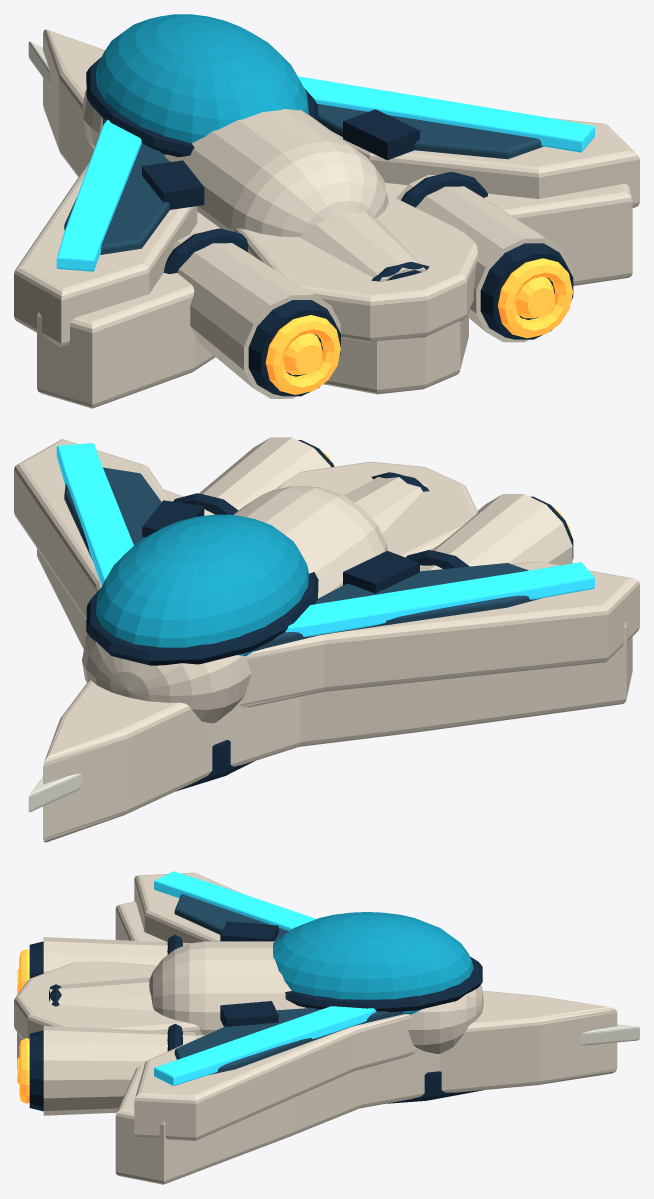
Rendered from vector-medium.glb.
3 views of the same model, one above another, from view 1: azimuth 30°, elevation 25°; view 2: azimuth 150°, elevation 25°; view 3: azimuth 270°, elevation 25° (orthographic). The views are drawn at different scales.
Visible parts, largest first — view 1: hull_static, glass_static, dark_static, trim_static, engine_static, accent_static; view 2: hull_static, glass_static, trim_static, dark_static, accent_static, porcelain_static; view 3: hull_static, glass_static, dark_static, trim_static, accent_static, engine_static, porcelain_static.
Part boxes in pixels (box(x1,y1,x2,y2)): hull_static: box(14, 29, 639, 408); glass_static: box(96, 14, 308, 155); dark_static: box(86, 57, 573, 396); trim_static: box(56, 76, 594, 271); engine_static: box(265, 258, 572, 394); accent_static: box(64, 104, 543, 254); hull_static: box(14, 437, 639, 842); glass_static: box(96, 514, 308, 655); trim_static: box(56, 443, 594, 636); dark_static: box(86, 440, 573, 791); accent_static: box(64, 467, 540, 651); porcelain_static: box(28, 773, 81, 812); hull_static: box(14, 872, 617, 1184); glass_static: box(273, 912, 473, 1014); dark_static: box(29, 921, 483, 1111); trim_static: box(154, 871, 376, 1085); accent_static: box(174, 894, 404, 1074); engine_static: box(17, 949, 29, 1103); porcelain_static: box(580, 1024, 639, 1045).
Size of the model in its own units: 348 by 112 by 405.
